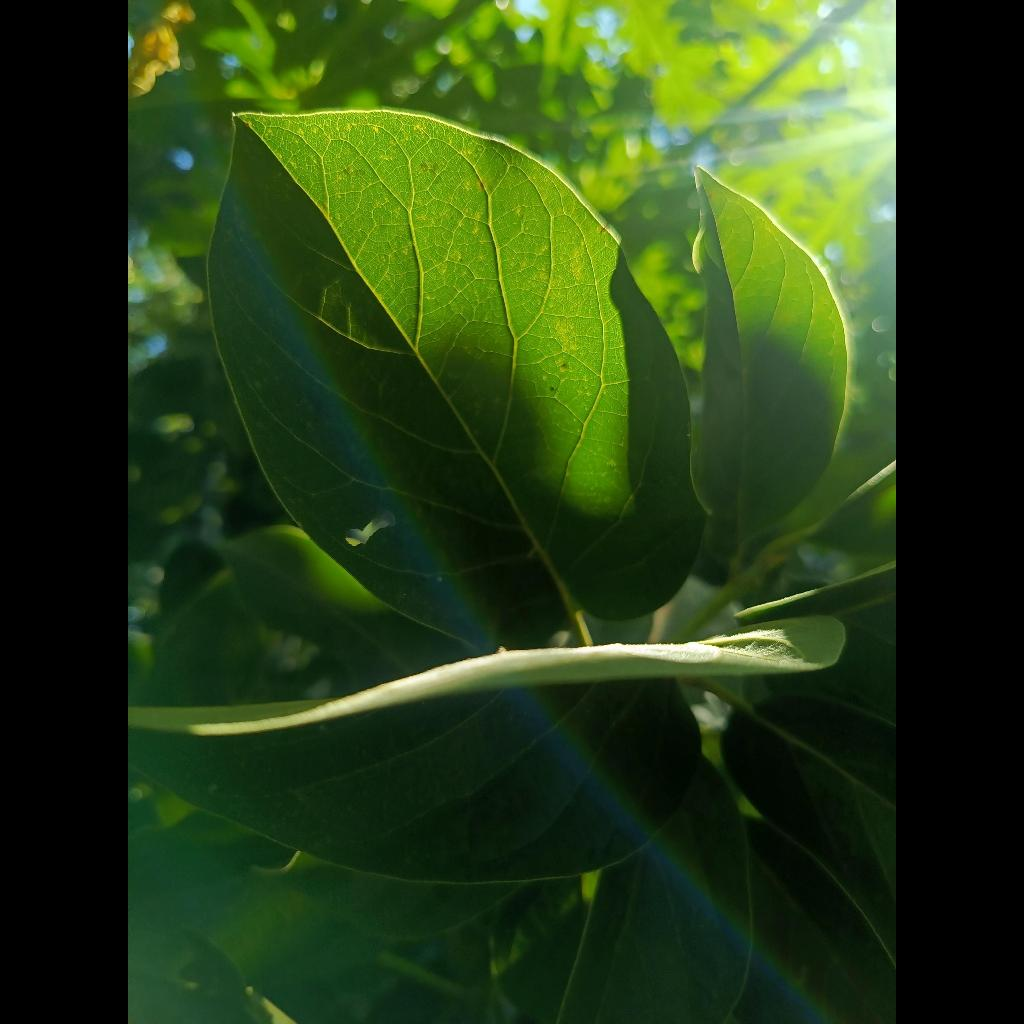Healthy: (210, 110, 701, 646)
